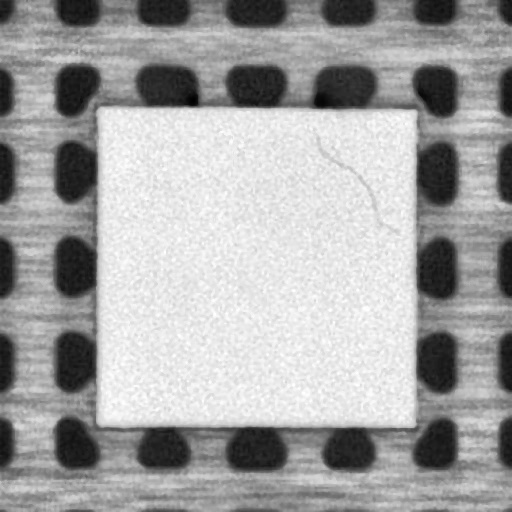DIE_CRACK: (310, 128, 402, 234)
